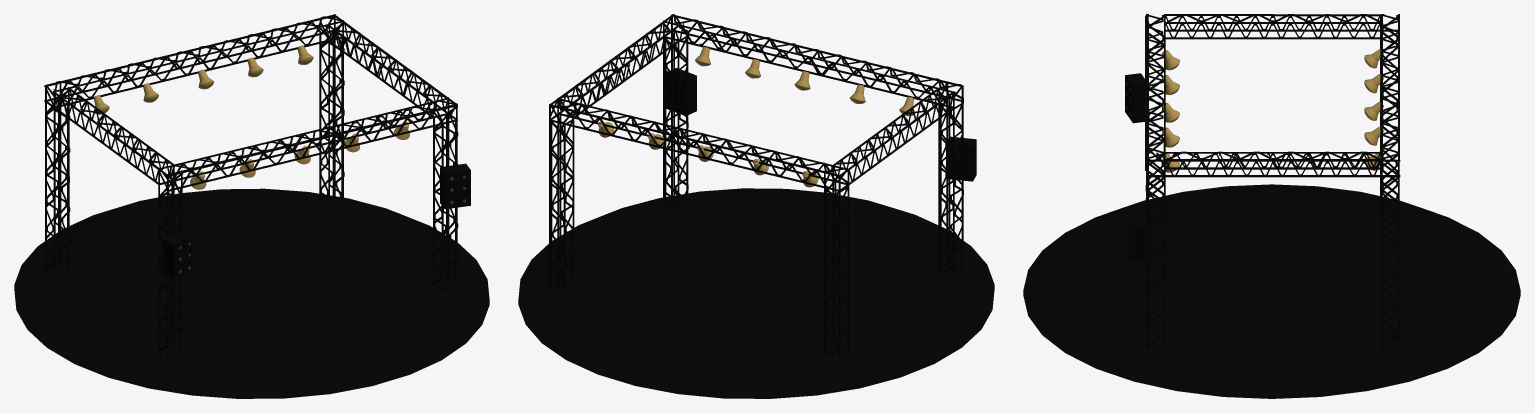
The picture shows the model from 3 angles, left to right: view 1: azimuth 30°, elevation 25°; view 2: azimuth 150°, elevation 25°; view 3: azimuth 270°, elevation 25°; orthographic projection. The views are drawn at different scales.
Parts seen in each view (by area): view 1: Cylinder.003, Plane.030, Cylinder.001, Cube.002, Cube.001; view 2: Cylinder.003, Plane.030, Cylinder.001, Cube.002, Cube.001; view 3: Cylinder.003, Plane.030, Cylinder.001, Cube.001, Cube.002.
Part boxes in pixels (x1,y1,x2,y2): Cylinder.003: [14, 188, 489, 398]; Plane.030: [44, 14, 458, 358]; Cylinder.001: [94, 45, 409, 189]; Cube.002: [163, 231, 193, 279]; Cube.001: [440, 163, 470, 209]; Cylinder.003: [518, 188, 994, 398]; Plane.030: [549, 14, 963, 359]; Cylinder.001: [598, 46, 915, 187]; Cube.002: [946, 136, 976, 181]; Cube.001: [666, 68, 696, 115]; Cylinder.003: [1023, 184, 1520, 398]; Plane.030: [1145, 14, 1400, 349]; Cylinder.001: [1162, 49, 1383, 172]; Cube.001: [1128, 213, 1150, 262]; Cube.002: [1125, 73, 1148, 123].
Size of the model in its own units: 1388 by 658 by 1415.
